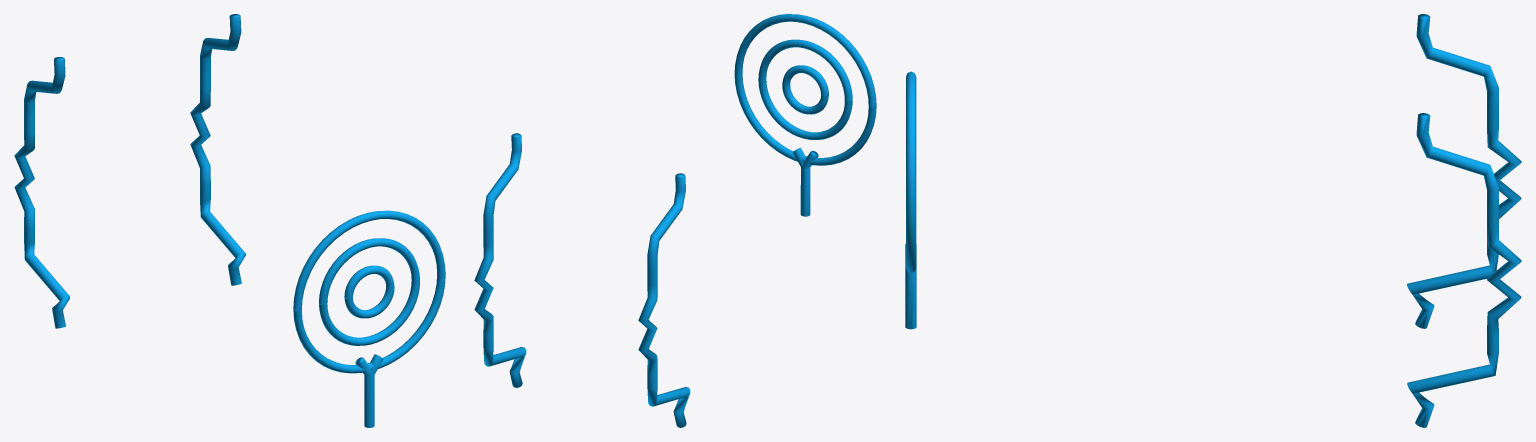
Rendered from The-Traveler-authored-details.obj.
3 views of the same model, side by side, from view 1: azimuth 30°, elevation 25°; view 2: azimuth 150°, elevation 25°; view 3: azimuth 270°, elevation 25° (orthographic). The views are drawn at different scales.
Bounding box in the file's own units: 0.116 × 0.1612 × 0.2893.
